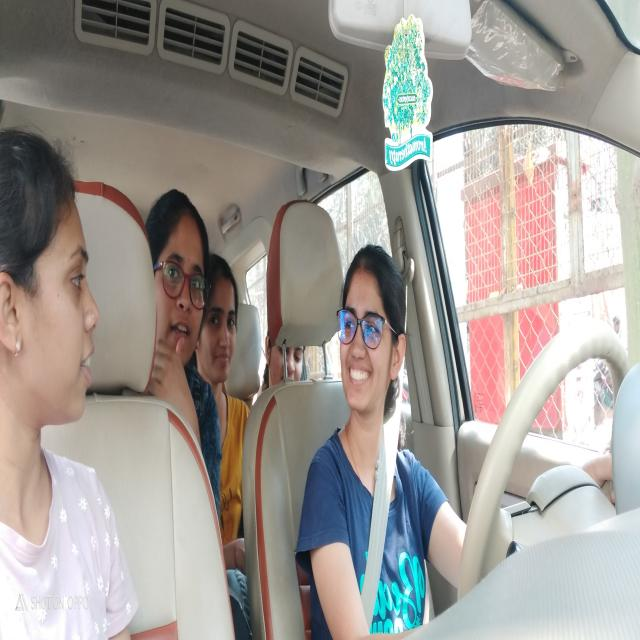LeftRight: (11, 143, 101, 424), (336, 259, 408, 417)
person: (154, 205, 206, 357), (210, 260, 239, 380), (267, 334, 309, 393)
talking: (77, 343, 97, 381), (348, 362, 373, 386)
